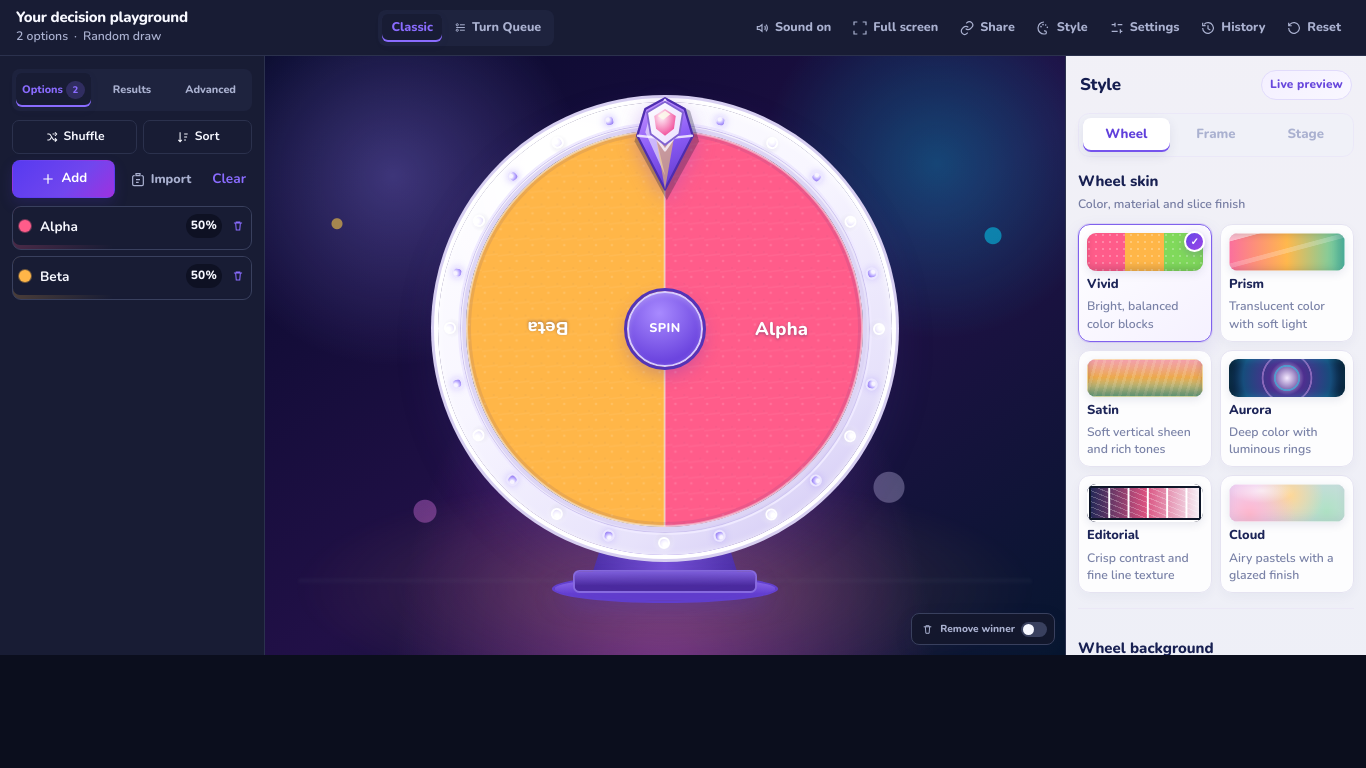
WheelGame integration › persists option edits after storage hydration completes
Replace the text in the field named "Option 1" with "Updated Alpha": (109, 226) [36,209,183,243]
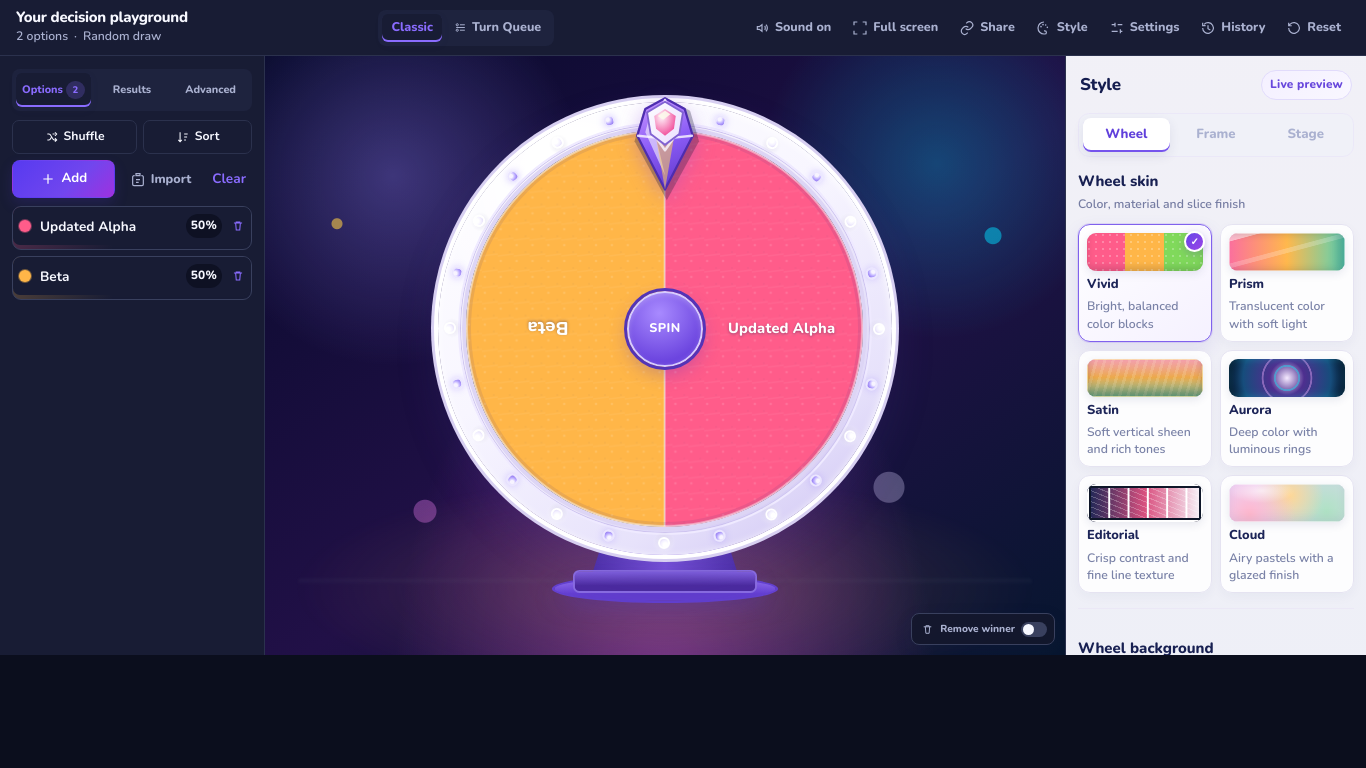
Expected: the text "Updated Alpha" is shown, [728,318,836,338]
